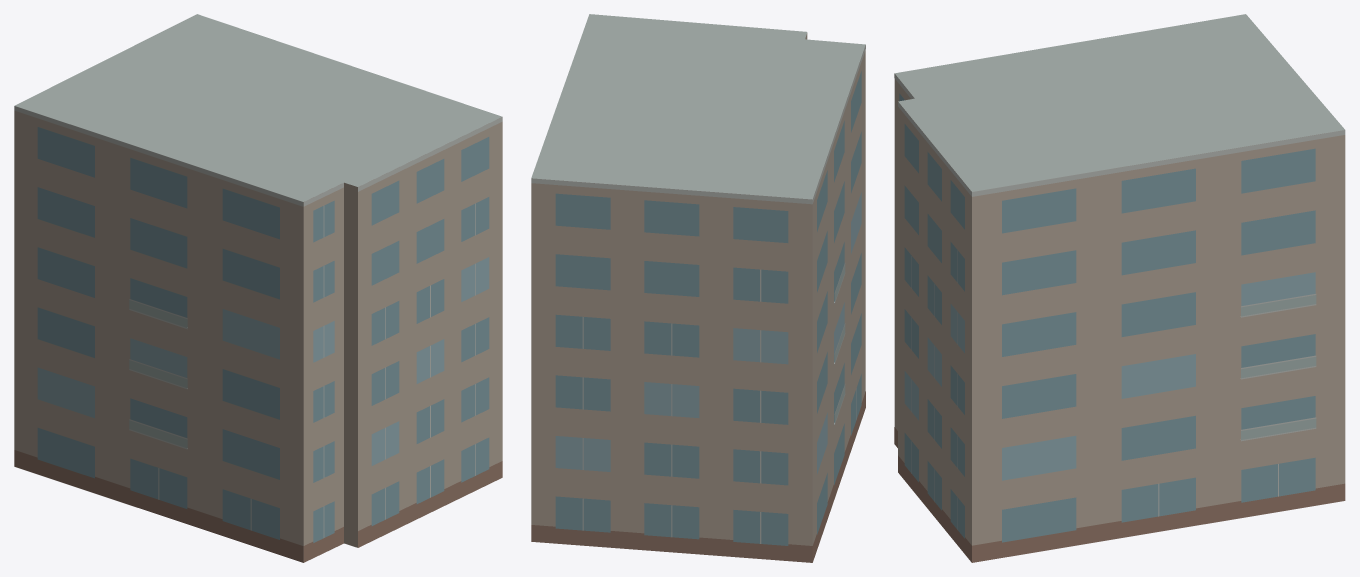
The model's file is survey-upis-32863011.glb.
The picture shows the model from 3 angles, left to right: view 1: azimuth 30°, elevation 25°; view 2: azimuth 150°, elevation 25°; view 3: azimuth 270°, elevation 25°; orthographic projection. The views are drawn at different scales.
Parts seen in each view (by area): view 1: survey-upis-32863011.tmp; view 2: survey-upis-32863011.tmp; view 3: survey-upis-32863011.tmp.
Boxes of the visible parts, x1,y1,x2,y2 form: survey-upis-32863011.tmp: (14, 14, 502, 562); survey-upis-32863011.tmp: (531, 14, 865, 562); survey-upis-32863011.tmp: (894, 14, 1345, 562).
Bounding box in the file's own units: 19.06 × 18.5 × 20.39.
